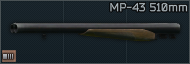MP-43-1C 12ga 510mm barrel: (0, 0, 190, 64)
